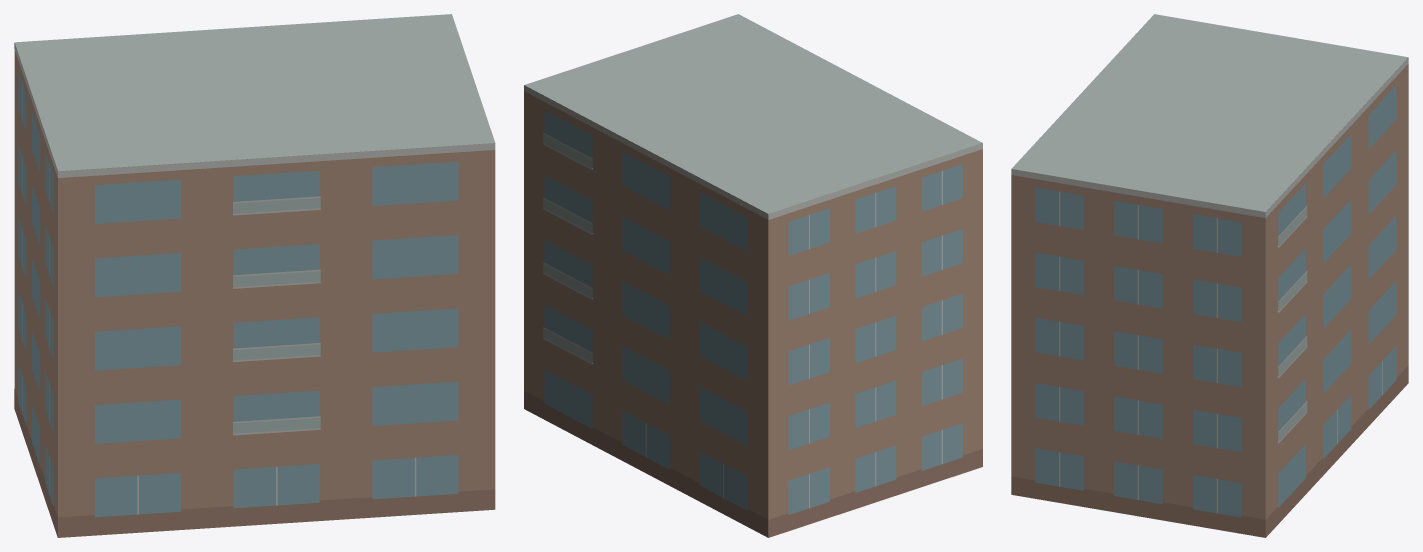
File: survey-upis-32653921.glb
3 views of the same model, side by side, from view 1: azimuth 30°, elevation 25°; view 2: azimuth 150°, elevation 25°; view 3: azimuth 270°, elevation 25° (orthographic). The views are drawn at different scales.
Parts seen in each view (by area): view 1: survey-upis-32653921.tmp; view 2: survey-upis-32653921.tmp; view 3: survey-upis-32653921.tmp.
Part boxes in pixels (box(x1,y1,x2,y2)): survey-upis-32653921.tmp: box(14, 14, 495, 537); survey-upis-32653921.tmp: box(524, 14, 982, 537); survey-upis-32653921.tmp: box(1011, 14, 1408, 537).
Size of the model in its own units: 17.09 by 13.1 by 14.48.
